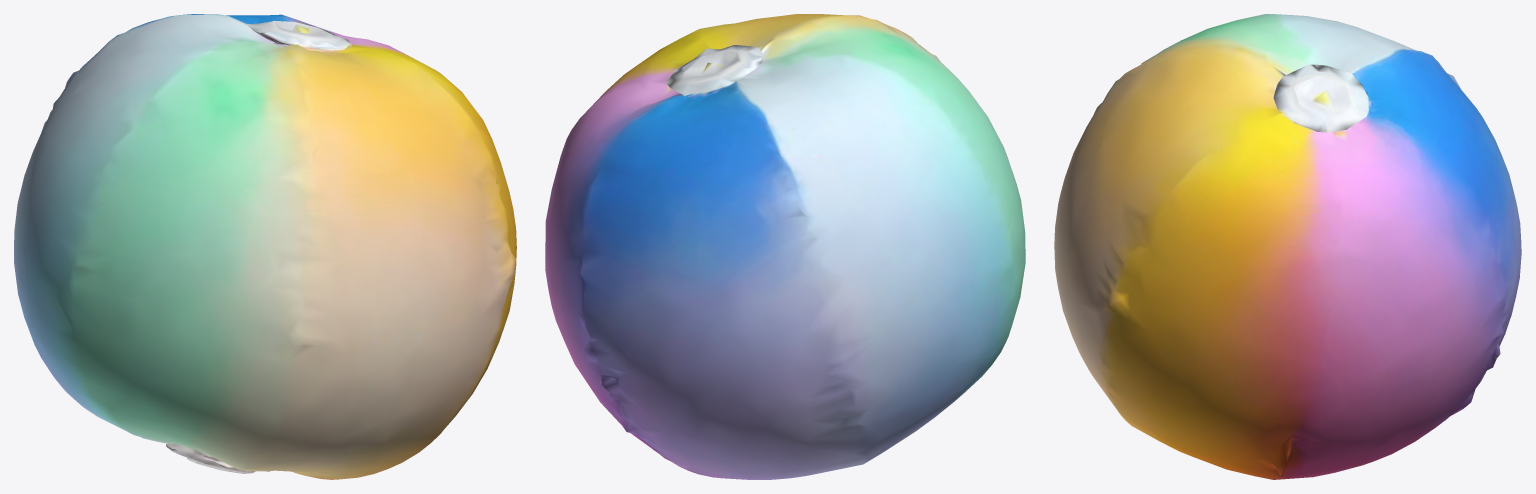
Rendered from beachball.glb.
3 renders of one model, left to right at view 1: azimuth 30°, elevation 25°; view 2: azimuth 150°, elevation 25°; view 3: azimuth 270°, elevation 25°, orthographic. The views are drawn at different scales.
Parts seen in each view (by area): view 1: tripo_node_01a21d92-d3ac-7eb7-afa9-79396e718abc; view 2: tripo_node_01a21d92-d3ac-7eb7-afa9-79396e718abc; view 3: tripo_node_01a21d92-d3ac-7eb7-afa9-79396e718abc.
Boxes of the visible parts, bbox=[...] form: tripo_node_01a21d92-d3ac-7eb7-afa9-79396e718abc: bbox=[14, 14, 516, 479]; tripo_node_01a21d92-d3ac-7eb7-afa9-79396e718abc: bbox=[545, 14, 1025, 479]; tripo_node_01a21d92-d3ac-7eb7-afa9-79396e718abc: bbox=[1054, 14, 1521, 479].
Bounding box in the file's own units: 0.9987 × 0.9326 × 1.
Materials: 1 (1 with a texture image).
